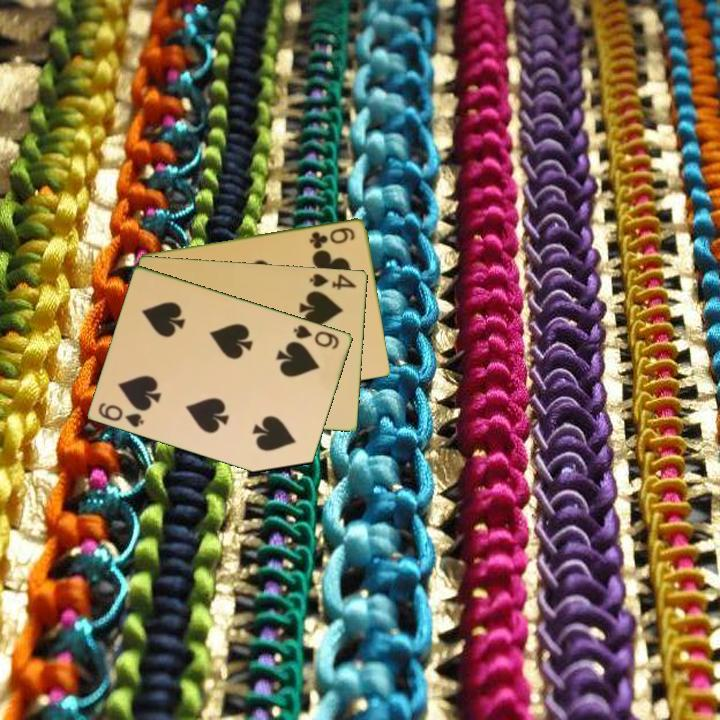4s: (306, 270, 359, 293)
6c: (306, 223, 358, 250)
6s: (290, 321, 342, 352), (95, 399, 147, 430)
